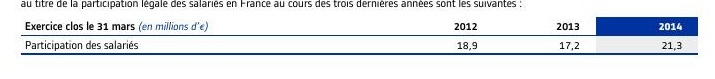table: (0, 0, 715, 79)
